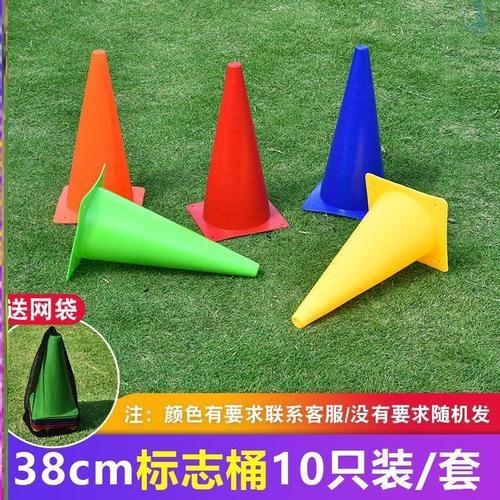cone_barrel: (290, 171, 446, 328), (65, 182, 260, 278), (191, 60, 286, 241), (57, 46, 146, 238), (305, 42, 394, 221), (30, 334, 77, 415)
